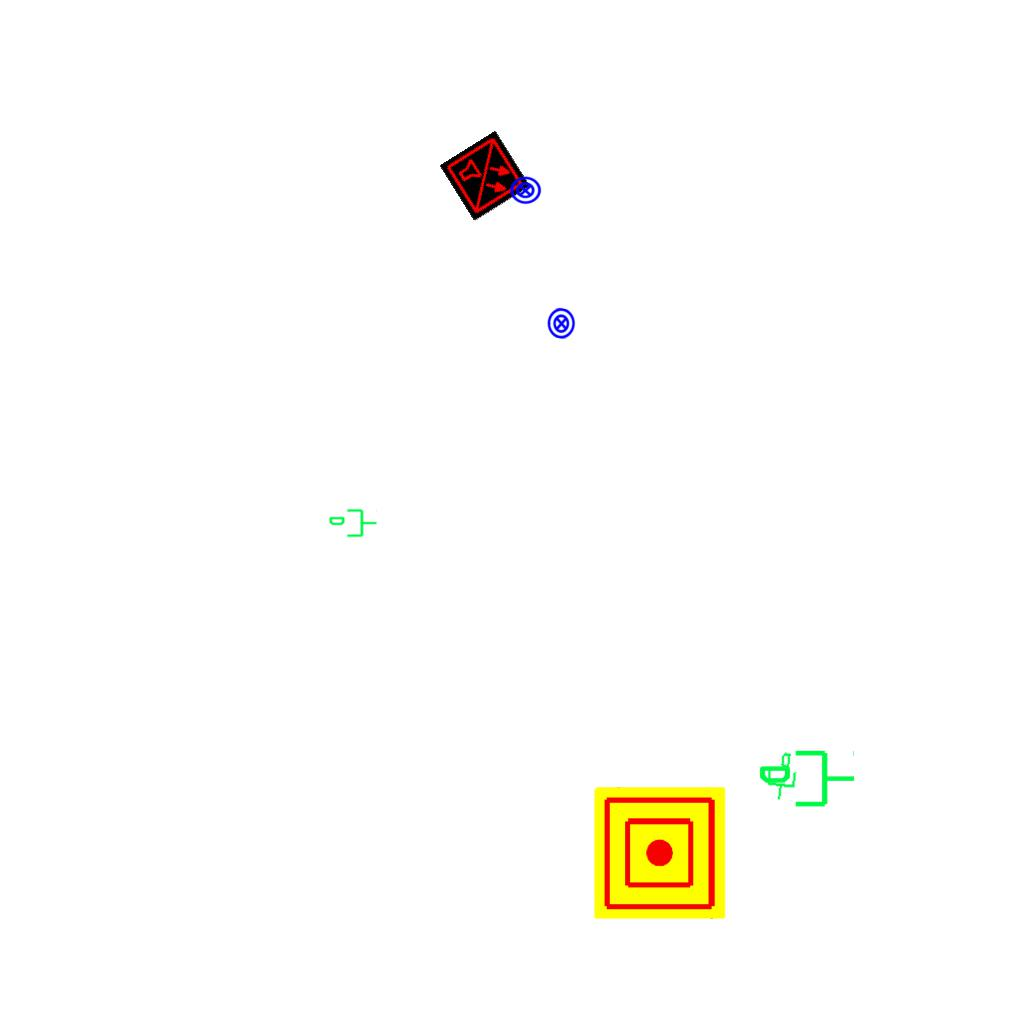Datenanschluss_einfach: (757, 746, 857, 815), (761, 749, 801, 803), (328, 507, 378, 541)
NAM-Nichtautomatischer_Melder: (594, 787, 726, 919)
OKW_Multisensormelder_(Kombination_optischer_Rauch-Kahlenmonoxid_Waerme-Melder): (439, 130, 531, 222)
Taster_beleuchtet: (544, 306, 579, 341), (509, 174, 542, 207)
